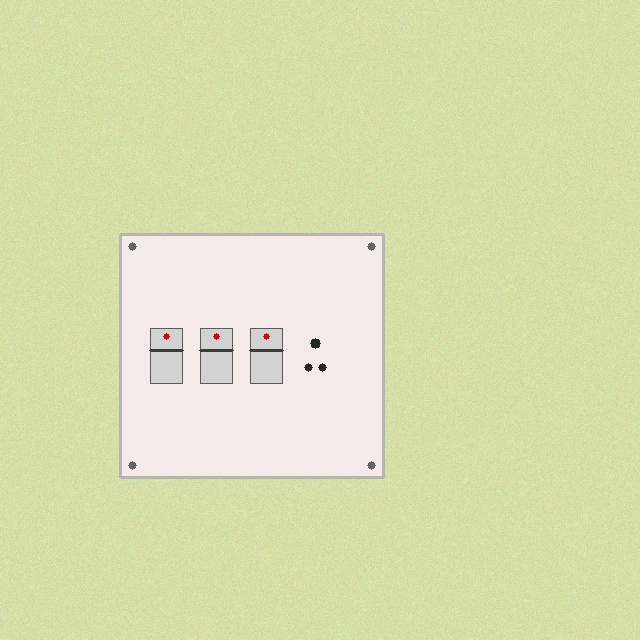switchboard: (120, 234, 383, 477)
